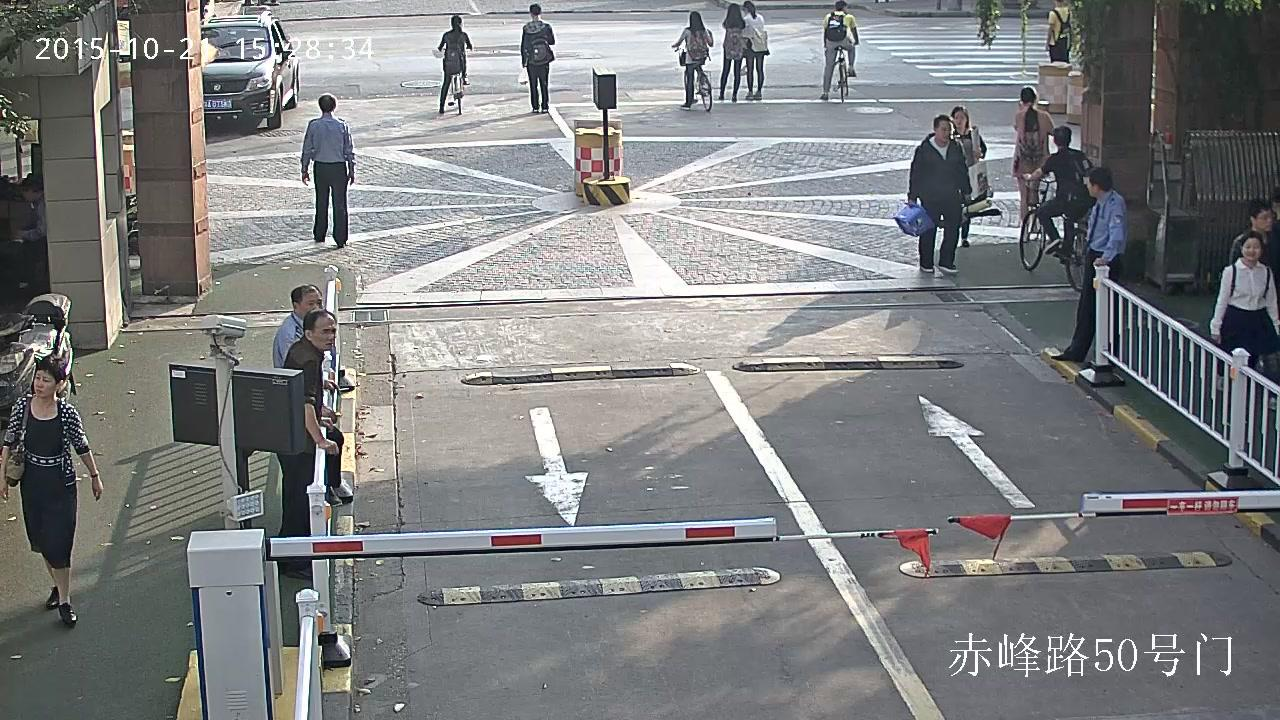face: (313, 313, 336, 349), (300, 291, 322, 318), (34, 369, 55, 397), (1241, 237, 1261, 260), (1256, 208, 1272, 231), (937, 119, 951, 141), (953, 111, 965, 128), (1086, 177, 1094, 196), (20, 194, 34, 203), (845, 3, 848, 14), (459, 19, 463, 27)
